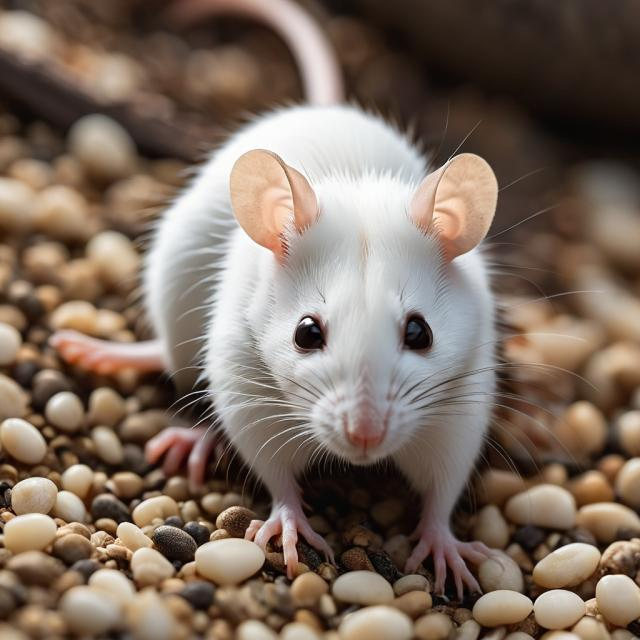rodents: (133, 81, 546, 512)
